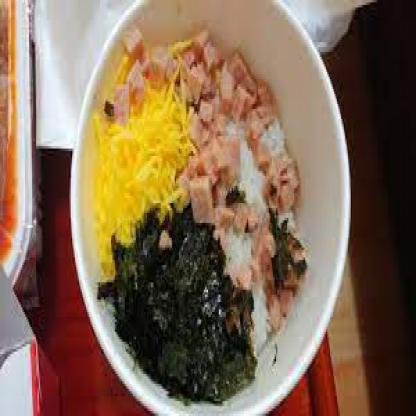cup rice: (89, 34, 308, 393)
